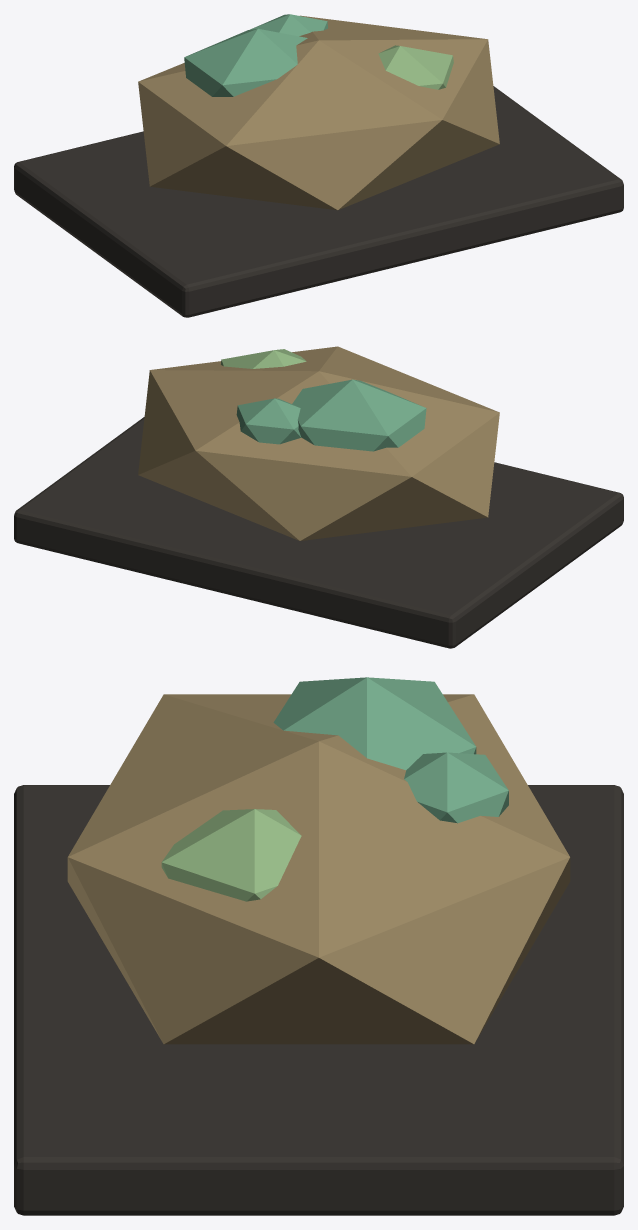
Rendered from rare-earth.glb.
The picture shows the model from 3 angles, top to bottom: view 1: azimuth 30°, elevation 25°; view 2: azimuth 150°, elevation 25°; view 3: azimuth 270°, elevation 25°; orthographic projection. The views are drawn at different scales.
Parts seen in each view (by area): view 1: rare-earth-black-pallet, rare-earth-pit, rare-earth-ore-0, rare-earth-ore-1, rare-earth-ore-2; view 2: rare-earth-black-pallet, rare-earth-pit, rare-earth-ore-0, rare-earth-ore-2, rare-earth-ore-1; view 3: rare-earth-black-pallet, rare-earth-pit, rare-earth-ore-0, rare-earth-ore-1, rare-earth-ore-2.
Boxes of the visible parts, left/top/right/bottom form: rare-earth-black-pallet: left=14, top=86, right=623, bottom=317; rare-earth-pit: left=138, top=15, right=499, bottom=210; rare-earth-ore-0: left=184, top=28, right=307, bottom=96; rare-earth-ore-1: left=378, top=45, right=453, bottom=89; rare-earth-ore-2: left=250, top=14, right=327, bottom=36; rare-earth-black-pallet: left=14, top=417, right=623, bottom=648; rare-earth-pit: left=138, top=346, right=499, bottom=540; rare-earth-ore-0: left=292, top=379, right=426, bottom=451; rare-earth-ore-2: left=236, top=398, right=301, bottom=444; rare-earth-ore-1: left=221, top=349, right=306, bottom=368; rare-earth-black-pallet: left=14, top=785, right=623, bottom=1215; rare-earth-pit: left=67, top=694, right=570, bottom=1044; rare-earth-ore-0: left=273, top=677, right=476, bottom=770; rare-earth-ore-1: left=161, top=809, right=301, bottom=901; rare-earth-ore-2: left=404, top=752, right=508, bottom=823.
Bounding box in the file's own units: 1.18 × 0.4509 × 0.8007.
